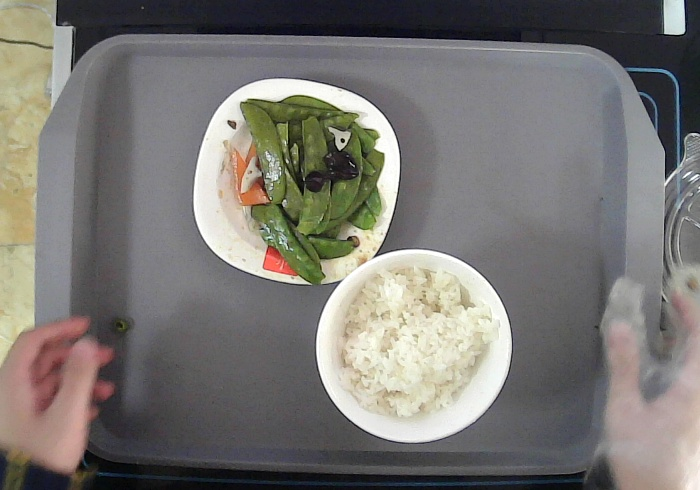SHKJ-Bai_Se_Si_Fang_Cai_Die: (186, 69, 408, 294)
SHKJ-Fan_Wan: (313, 246, 517, 445)
